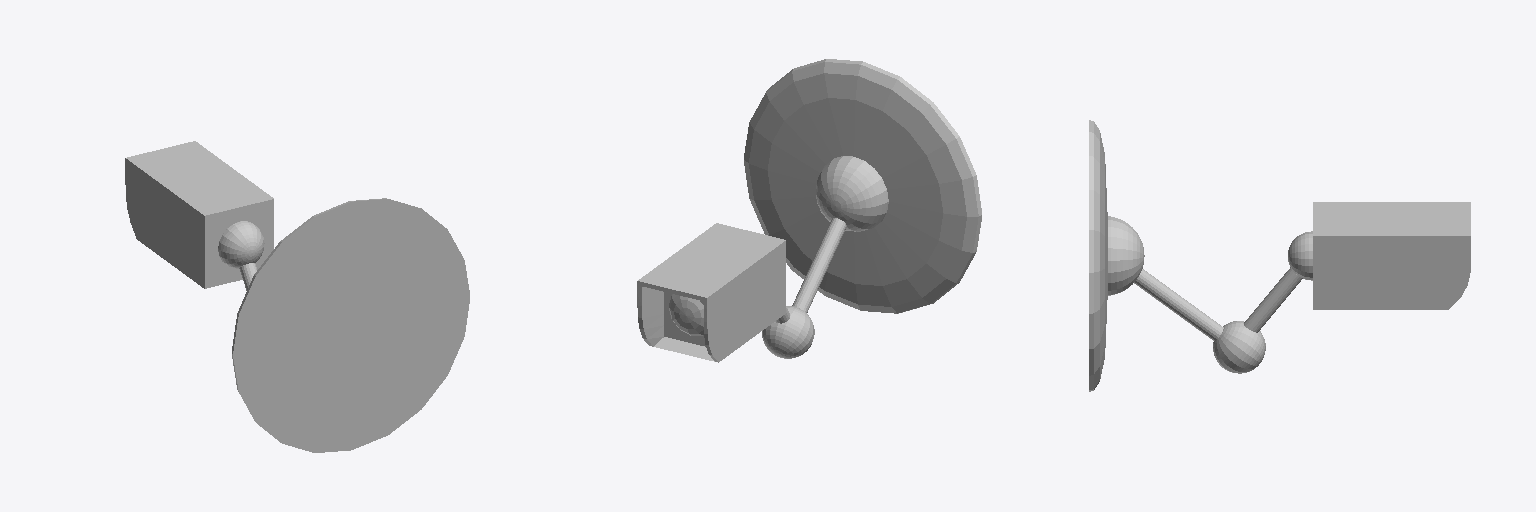
The model's file is Camara1.obj.
The picture shows the model from 3 angles: view 1: azimuth 30°, elevation 25°; view 2: azimuth 150°, elevation 25°; view 3: azimuth 270°, elevation 25°; orthographic projection.
Visible parts, largest first — view 1: polySurface17, polySurface17 polySurface10 polySurface13 polySurface12 polySurf; view 2: polySurface17, polySurface17 polySurface10 polySurface13 polySurface12 polySurf, polySurface17 polySurface10, polySurface17 polySurface10 polySurface13 polySurface12, polySurface17 polySurface10 polySurface13; view 3: polySurface17 polySurface10 polySurface13 polySurface12 polySurf, polySurface17, polySurface17 polySurface10, polySurface17 polySurface10 polySurface13 polySurface12, polySurface17 polySurface10 polySurface13.
Part boxes in pixels (x1,y1,x2,y2): polySurface17: (232, 198, 469, 452); polySurface17 polySurface10 polySurface13 polySurface12 polySurf: (125, 141, 273, 290); polySurface17: (744, 59, 981, 313); polySurface17 polySurface10 polySurface13 polySurface12 polySurf: (637, 223, 789, 362); polySurface17 polySurface10: (816, 156, 888, 231); polySurface17 polySurface10 polySurface13 polySurface12: (762, 306, 814, 358); polySurface17 polySurface10 polySurface13: (792, 218, 846, 312); polySurface17 polySurface10 polySurface13 polySurface12 polySurf: (1244, 202, 1470, 332); polySurface17: (1089, 120, 1107, 391); polySurface17 polySurface10: (1108, 216, 1144, 295); polySurface17 polySurface10 polySurface13 polySurface12: (1213, 321, 1265, 373); polySurface17 polySurface10 polySurface13: (1134, 269, 1223, 340).
Size of the model in its own units: 6.8 by 6.8 by 9.49.